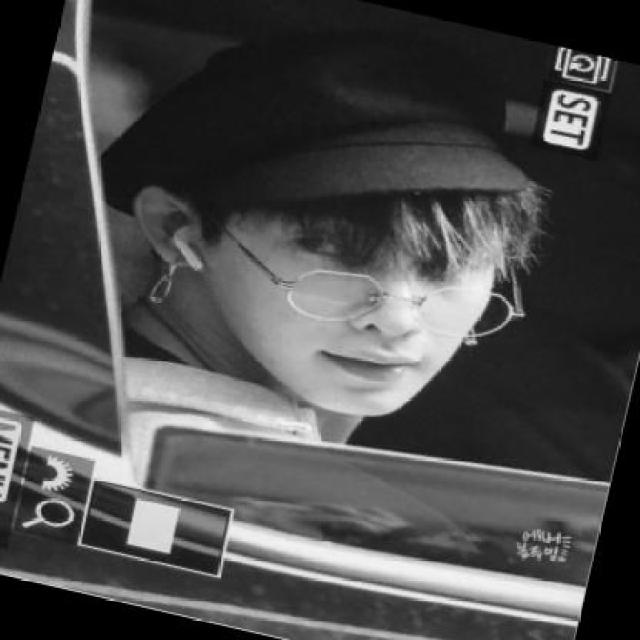earphone: (150, 193, 212, 306)
